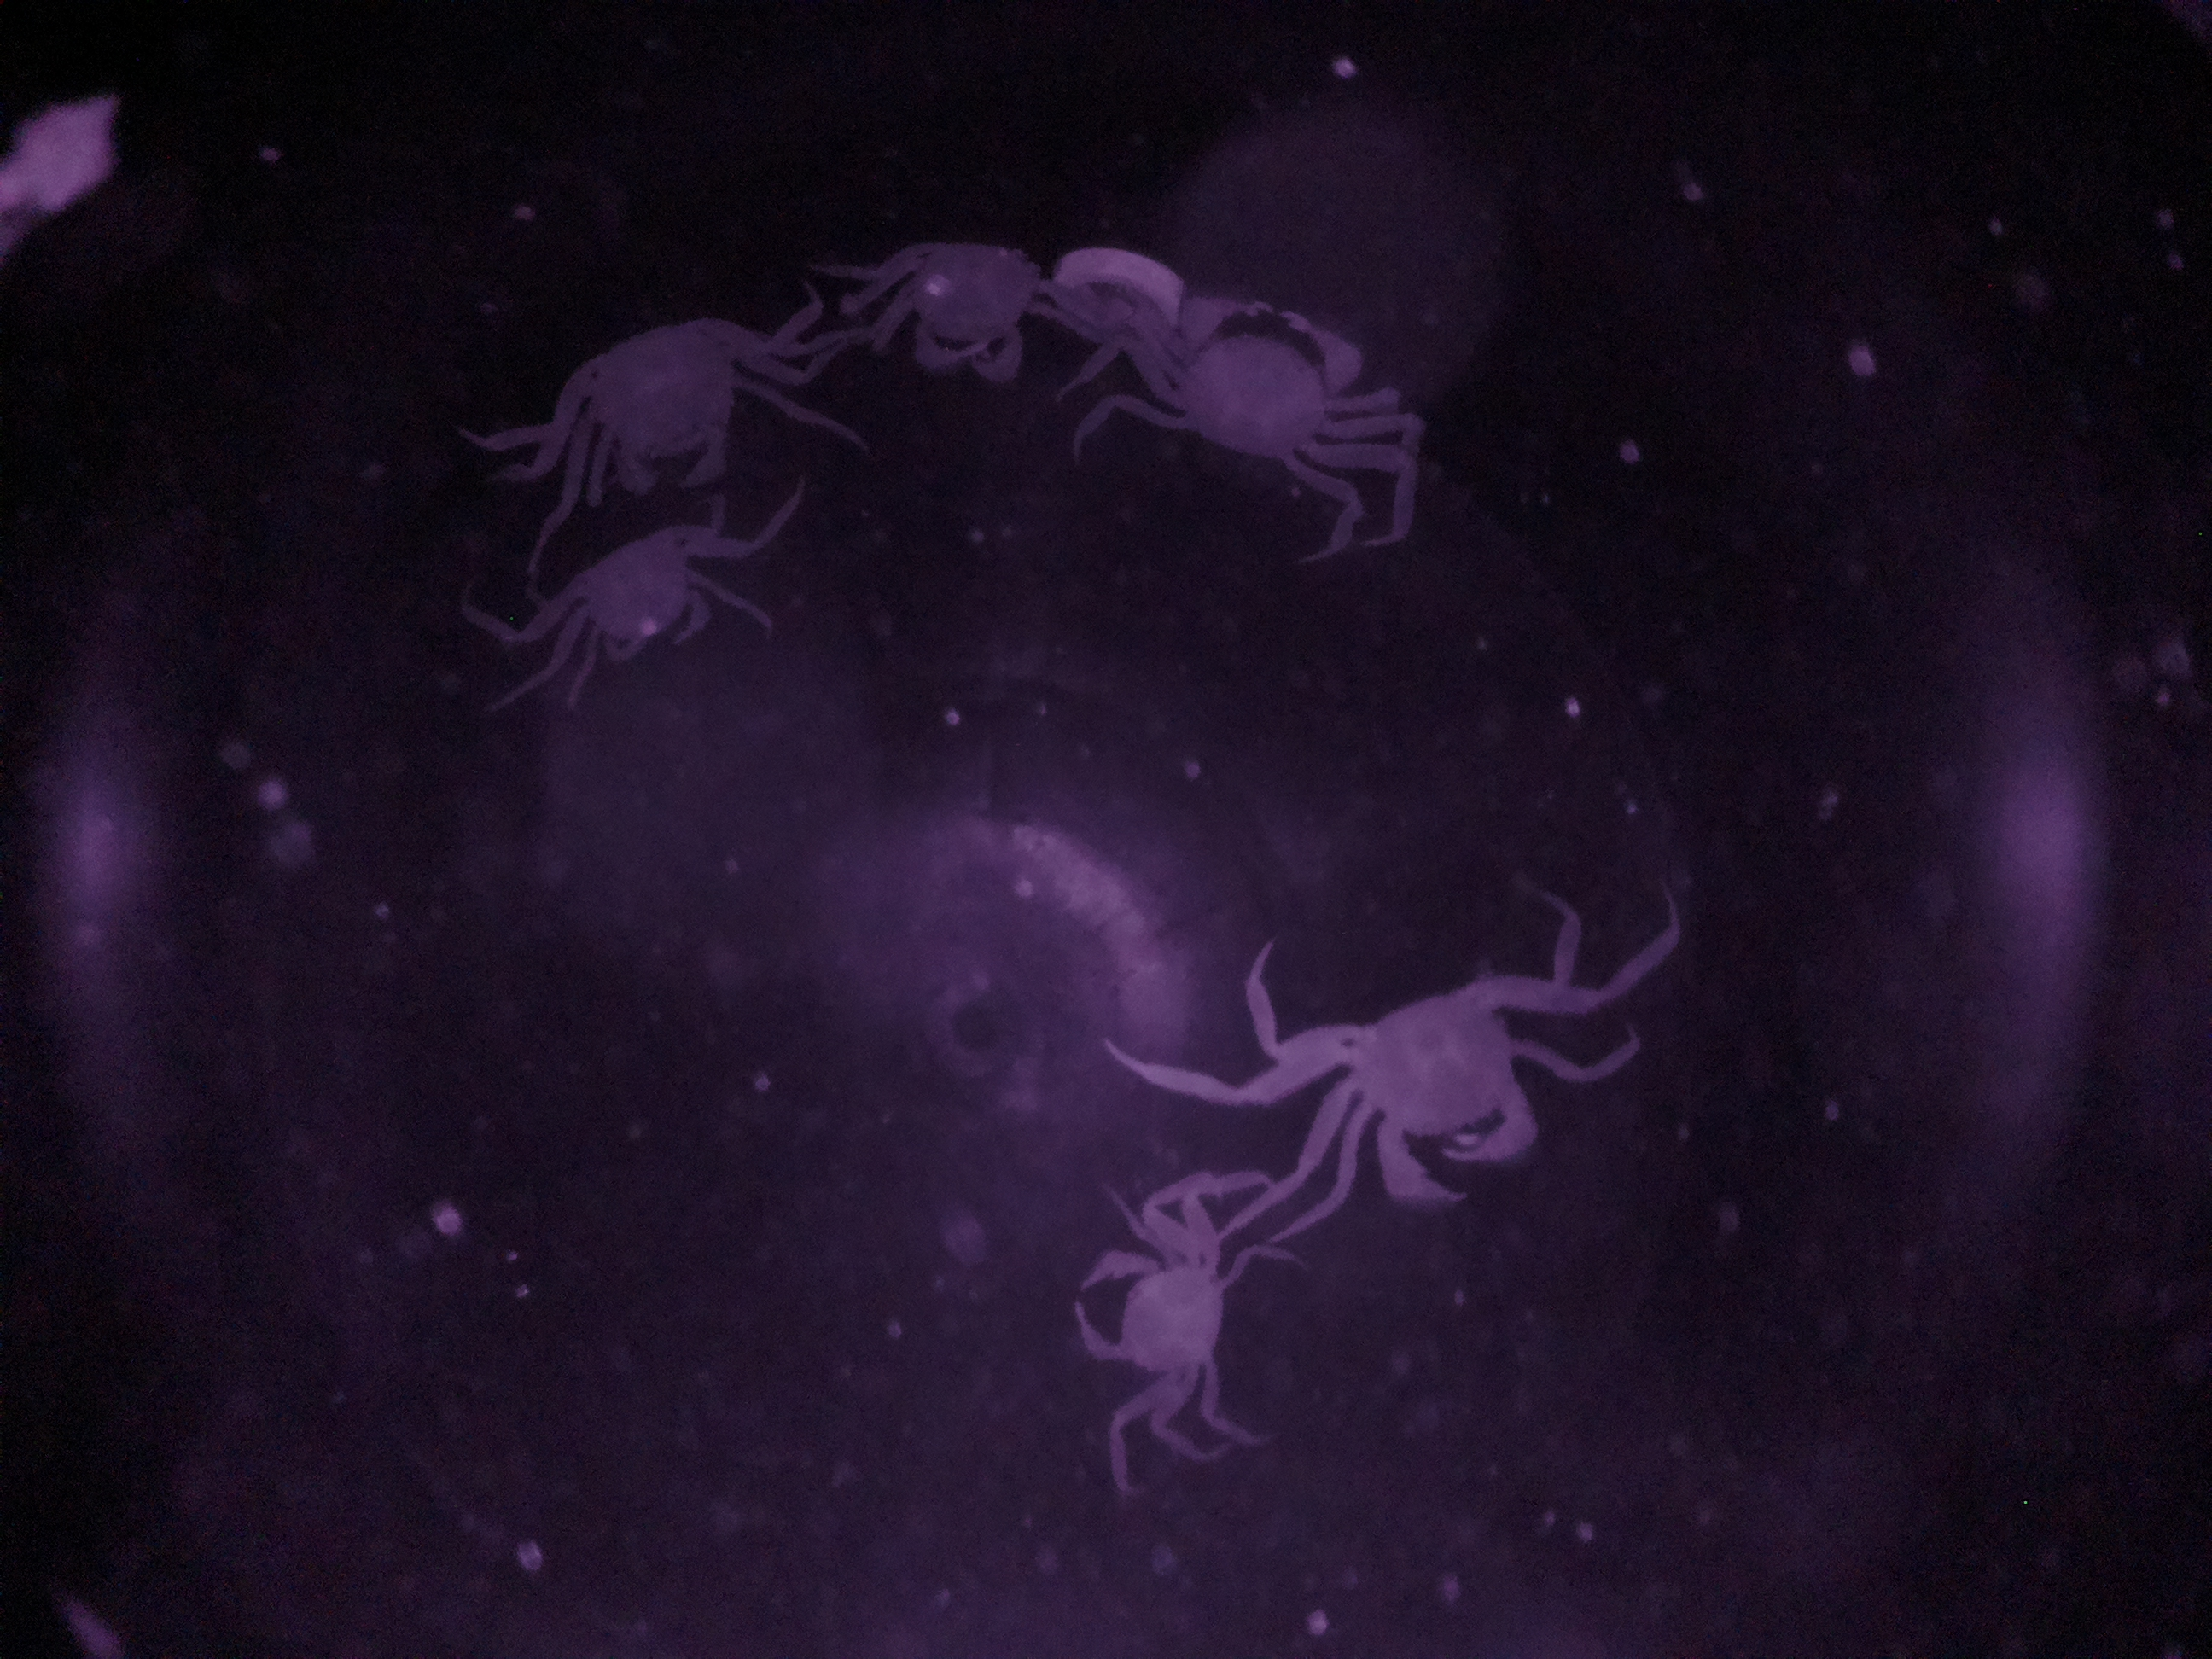Crab: (1285, 953, 1583, 1215), (1103, 277, 1392, 493), (526, 500, 751, 681), (1062, 1216, 1245, 1392)
